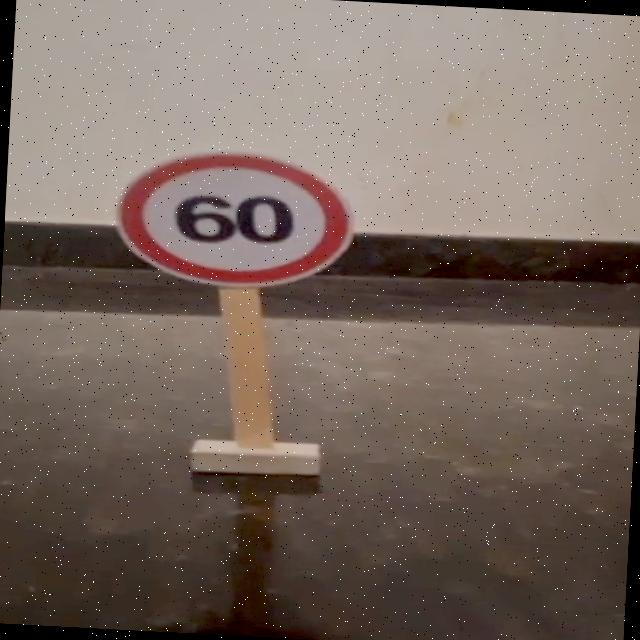Speed60: (106, 143, 363, 298)
